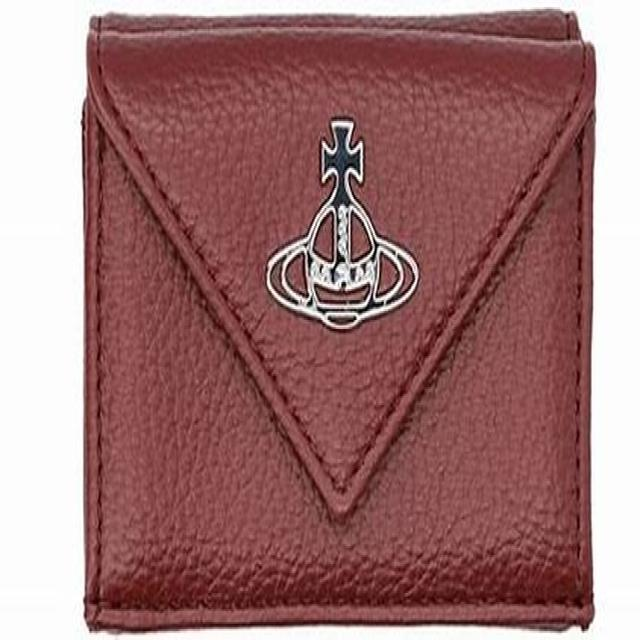wallet: (59, 34, 618, 632)
